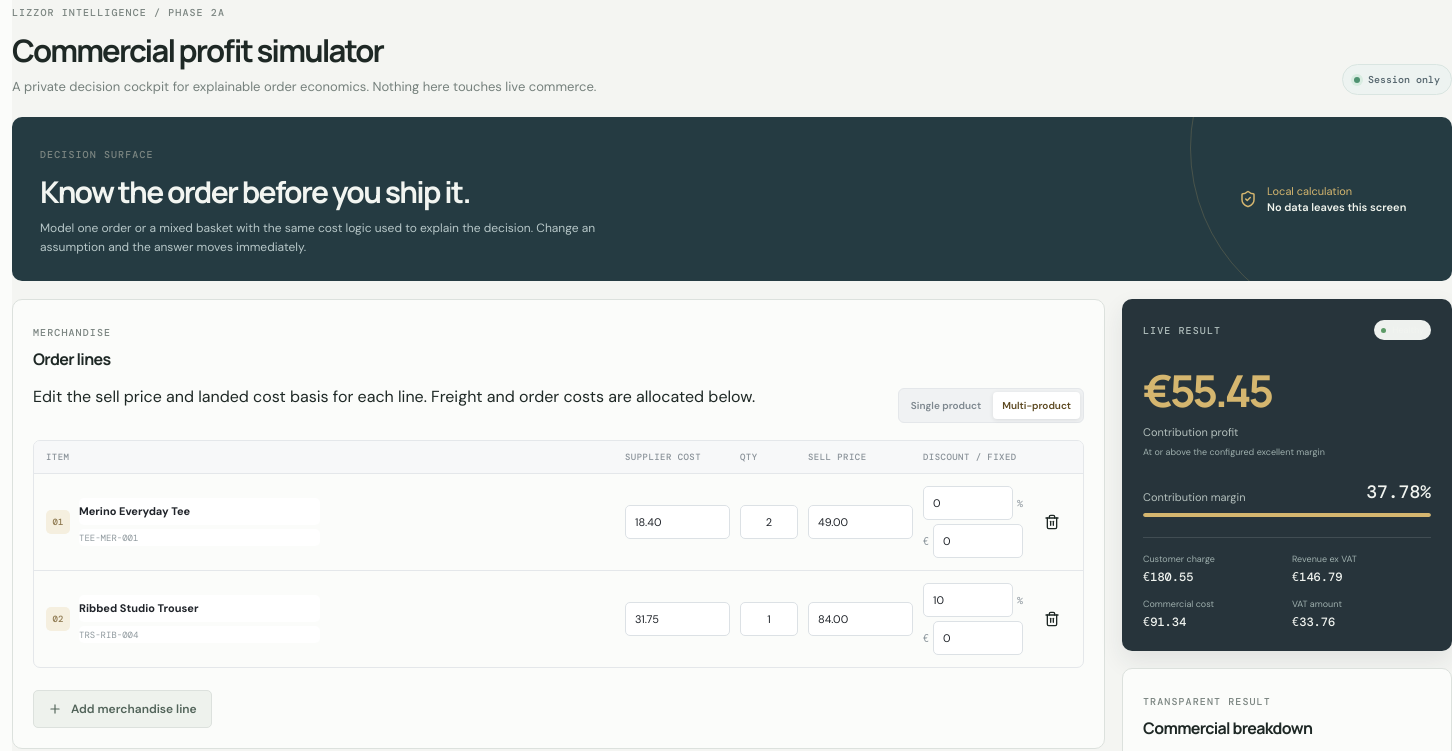
CommercialProfitSimulatorPage › switches between single and multi-product modes without losing drafts
What coordinates should you click on to do the following:
click the button "Single product"
I would click on:
 (946, 406)
Its box is [902,392,990,419].
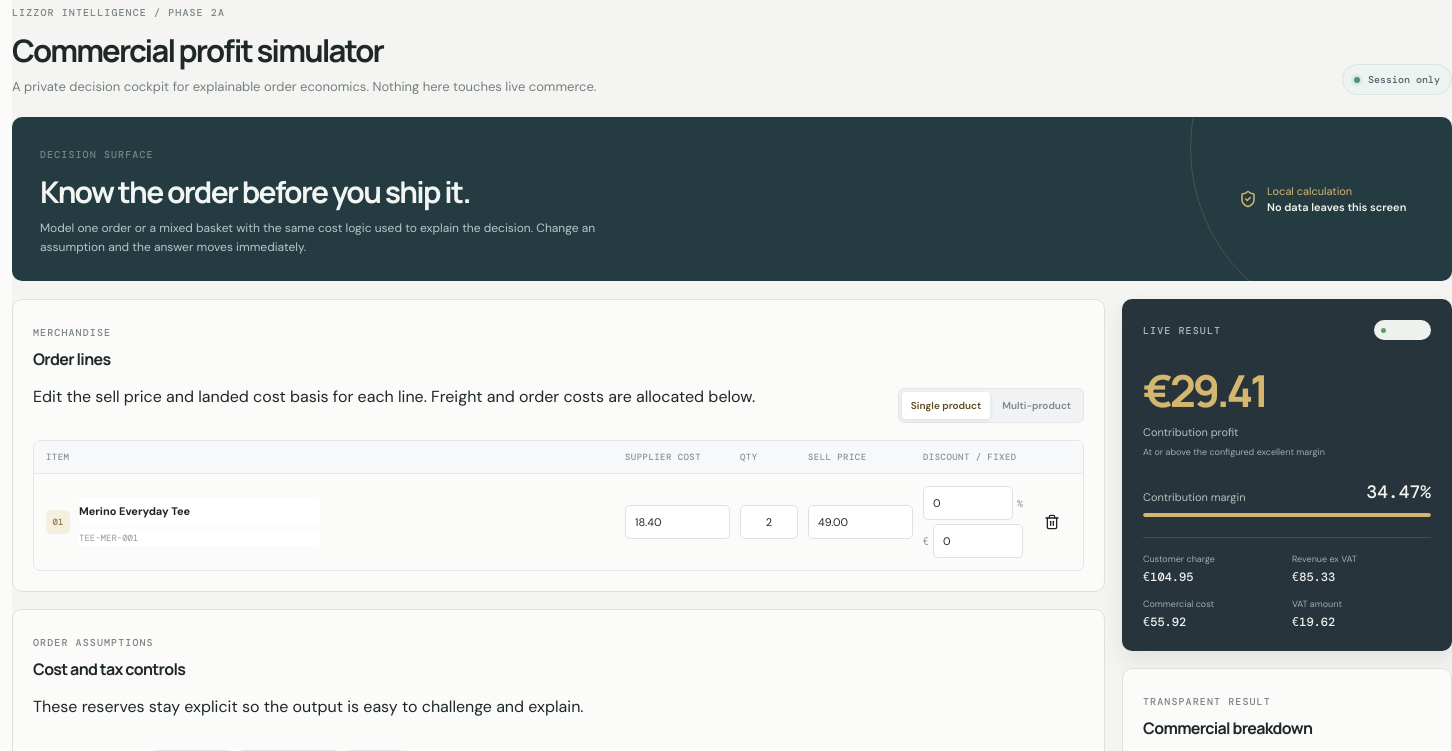
Check: the field showing "Ribbed Studio Trouser" is not shown
Check: the button "Add merchandise line" is gone
What coordinates should you click on to do the following:
click the button "Multi-product"
I would click on:
 (1037, 406)
Its box is [993,392,1080,419].
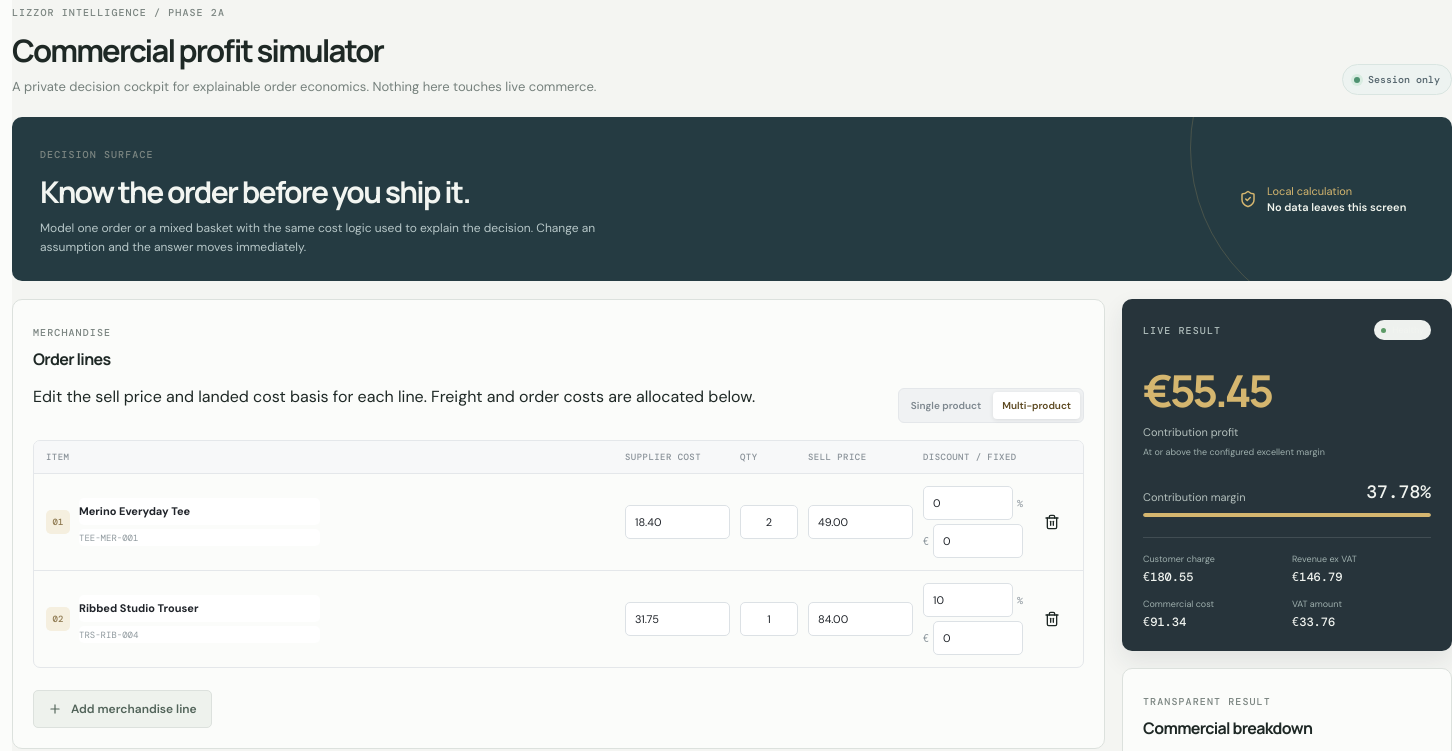
Check: the field showing "Ribbed Studio Trouser" is shown, box [79,595,320,622]
